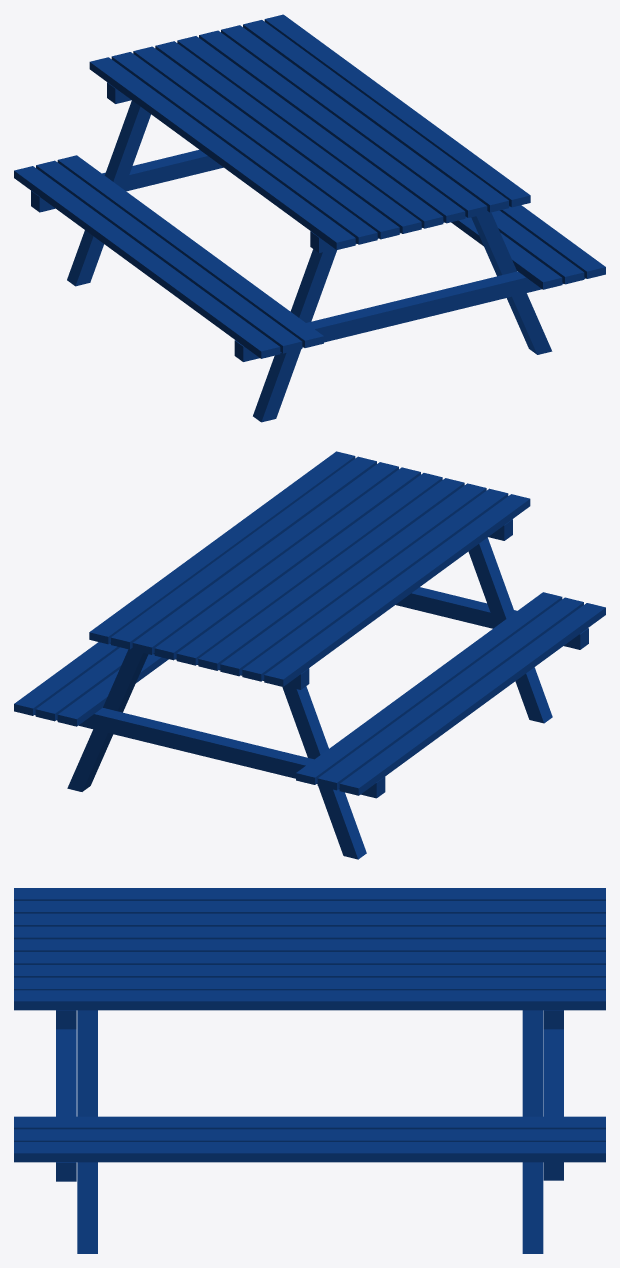
The model's file is bench.obj.
3 views of the same model, one above another, from view 1: azimuth 30°, elevation 25°; view 2: azimuth 150°, elevation 25°; view 3: azimuth 270°, elevation 25° (orthographic). The views are drawn at different scales.
Visible parts, largest first — view 1: Wood_Plank004; view 2: Wood_Plank004; view 3: Wood_Plank004.
Boxes of the visible parts, x1,y1,x2,y2 form: Wood_Plank004: (14,14,605,422); Wood_Plank004: (14,451,605,859); Wood_Plank004: (14,888,605,1253).
Bounding box in the file's own units: 57.14 × 29.62 × 70.87.
